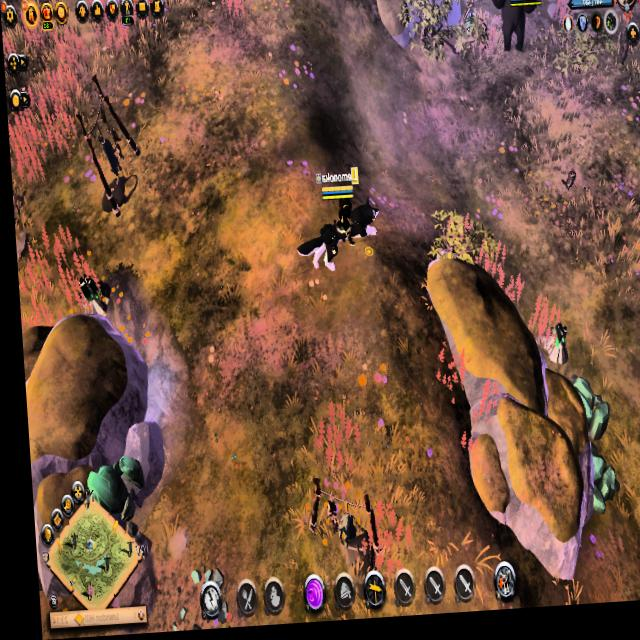ore tier 3: (72, 273, 108, 322), (536, 327, 567, 377)
